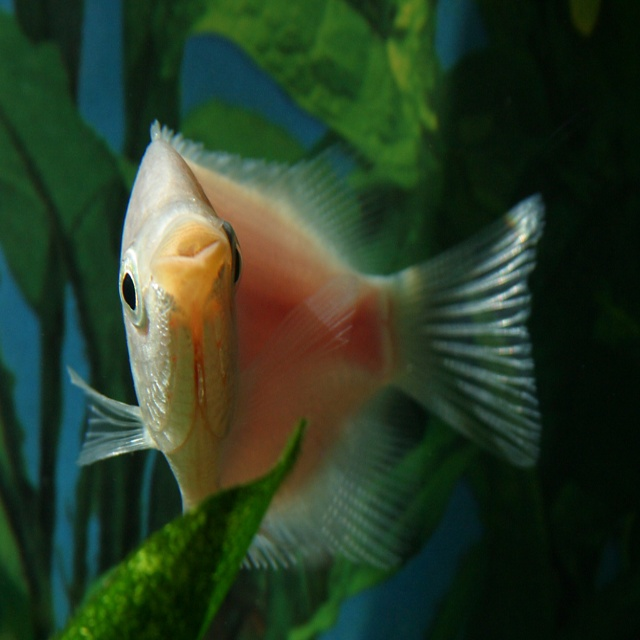Fish: (106, 122, 556, 584)
